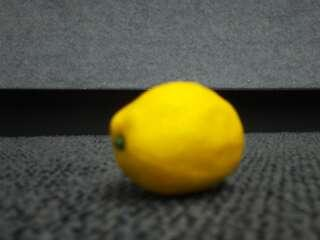lemon: (108, 83, 245, 194)
